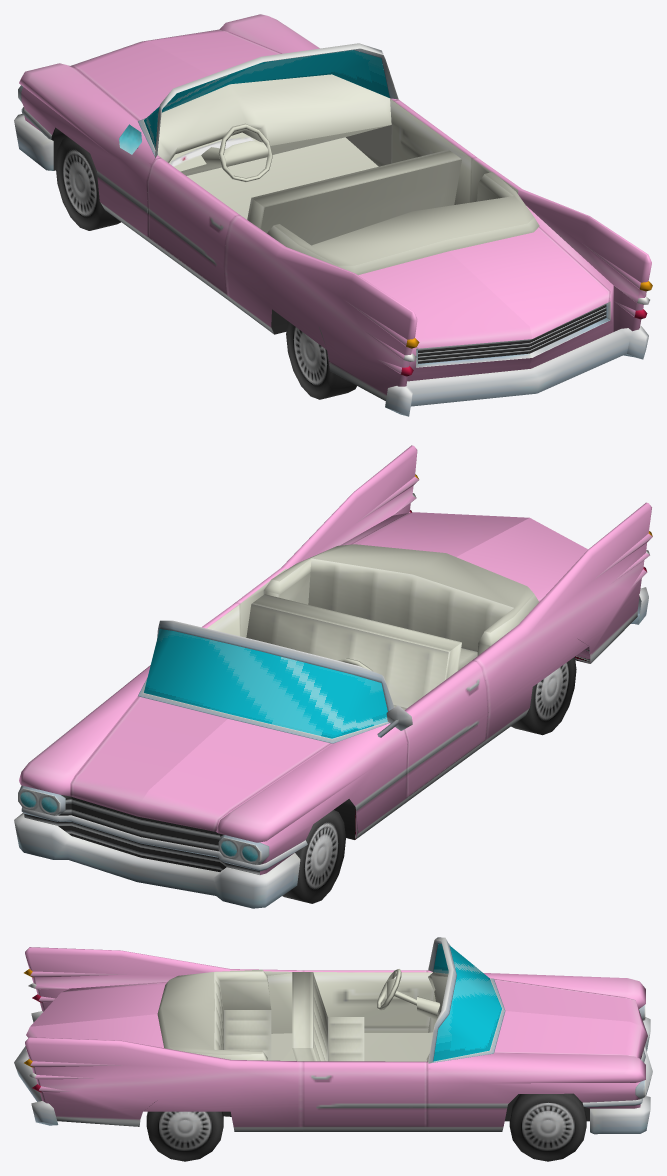
Rendered from planet_hype_car.glb.
3 renders of one model, top to bottom at view 1: azimuth 30°, elevation 25°; view 2: azimuth 150°, elevation 25°; view 3: azimuth 270°, elevation 25°, orthographic. The views are drawn at different scales.
Visible parts, largest first — view 1: hype_vShape, DoorDRotShape, wShape0.002, wShape0.001; view 2: hype_vShape, DoorDRotShape, wShape0.002, wShape0.001; view 3: hype_vShape, DoorDRotShape, wShape0.003, wShape0.
Boxes of the visible parts, bbox=[...] form: hype_vShape: bbox=[14, 14, 652, 416]; DoorDRotShape: bbox=[146, 155, 239, 293]; wShape0.002: bbox=[55, 137, 120, 230]; wShape0.001: bbox=[286, 321, 356, 399]; hype_vShape: bbox=[14, 445, 652, 908]; DoorDRotShape: bbox=[404, 660, 487, 797]; wShape0.002: bbox=[282, 810, 345, 903]; wShape0.001: bbox=[511, 657, 576, 735]; hype_vShape: bbox=[14, 937, 652, 1134]; DoorDRotShape: bbox=[303, 970, 434, 1032]; wShape0.003: bbox=[509, 1093, 586, 1161]; wShape0: bbox=[146, 1111, 223, 1161].
Size of the model in its own units: 2.48 by 1.58 by 6.27.
Materials: 2 (2 with a texture image).
